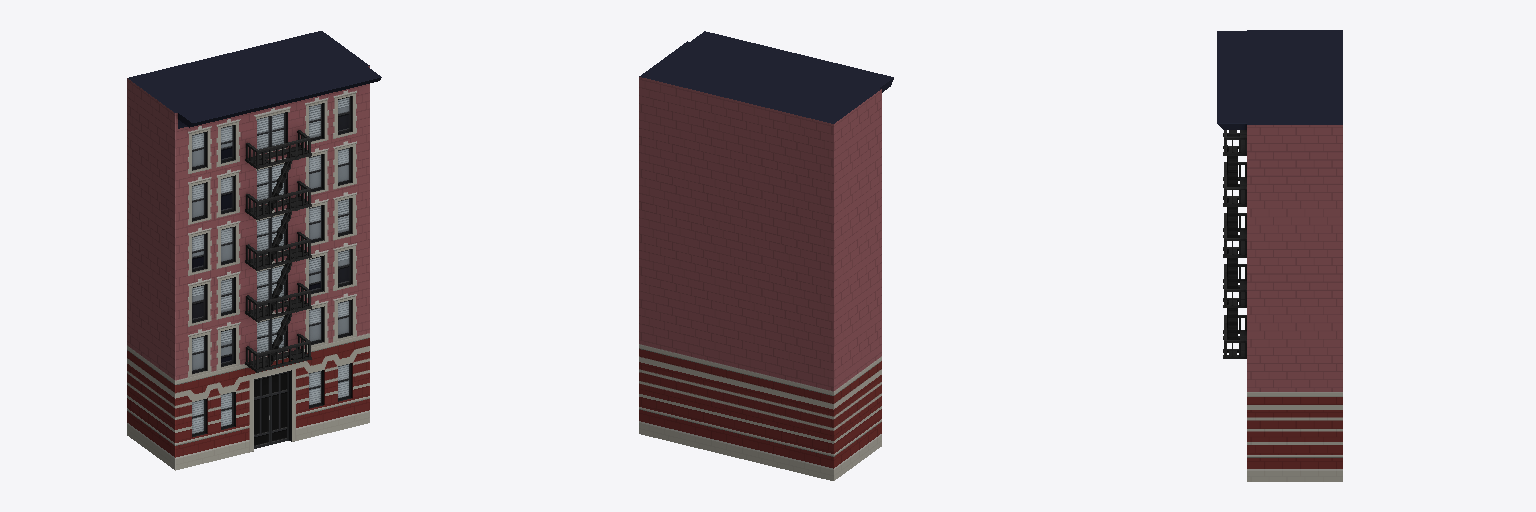
3 views of the same model, side by side, from view 1: azimuth 30°, elevation 25°; view 2: azimuth 150°, elevation 25°; view 3: azimuth 270°, elevation 25° (orthographic).
Visible parts, largest first — view 1: Apartment_mesh; view 2: Apartment_mesh; view 3: Apartment_mesh.
Part boxes in pixels (x1,y1,x2,y2): Apartment_mesh: (127,31,381,470); Apartment_mesh: (639,31,893,480); Apartment_mesh: (1217,30,1342,481).
Bounding box in the file's own units: 10.32 × 18.1 × 5.79.
Materials: 1 (1 with a texture image).